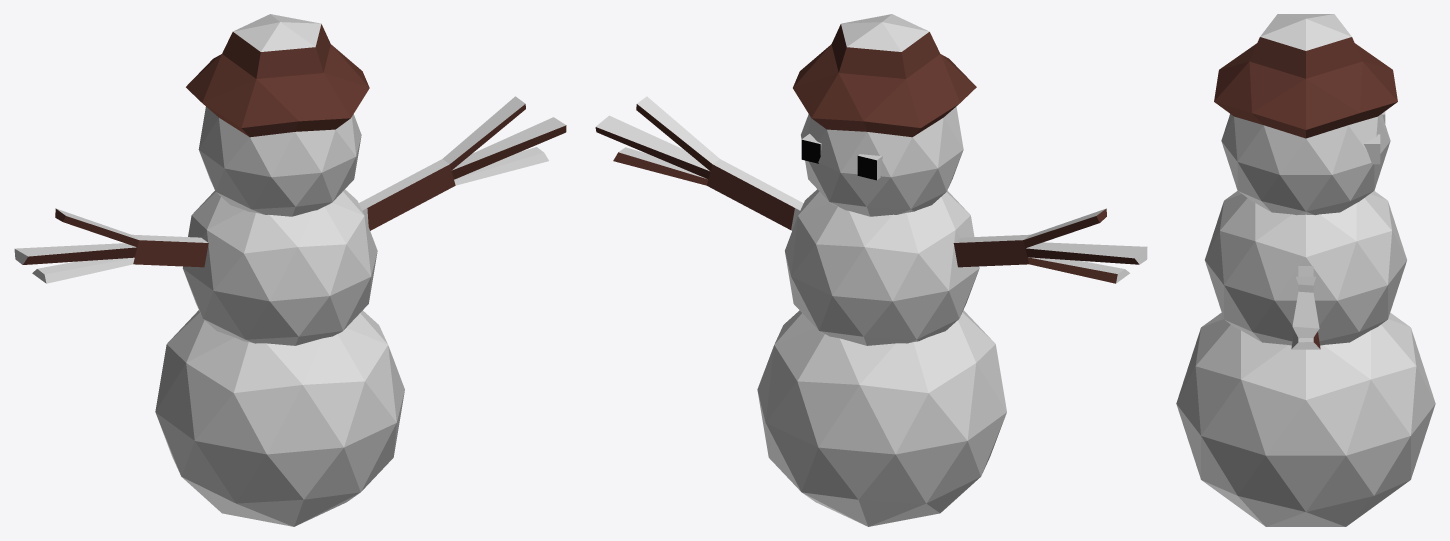
Rendered from snowman.glb.
3 views of the same model, side by side, from view 1: azimuth 30°, elevation 25°; view 2: azimuth 150°, elevation 25°; view 3: azimuth 270°, elevation 25° (orthographic).
Visible parts, largest first — view 1: Snowman; view 2: Snowman; view 3: Snowman.
Boxes of the visible parts, bbox=[...] form: Snowman: bbox=[14, 14, 566, 526]; Snowman: bbox=[595, 14, 1147, 526]; Snowman: bbox=[1176, 14, 1435, 526].
Bounding box in the file's own units: 4.92 × 4.27 × 2.
